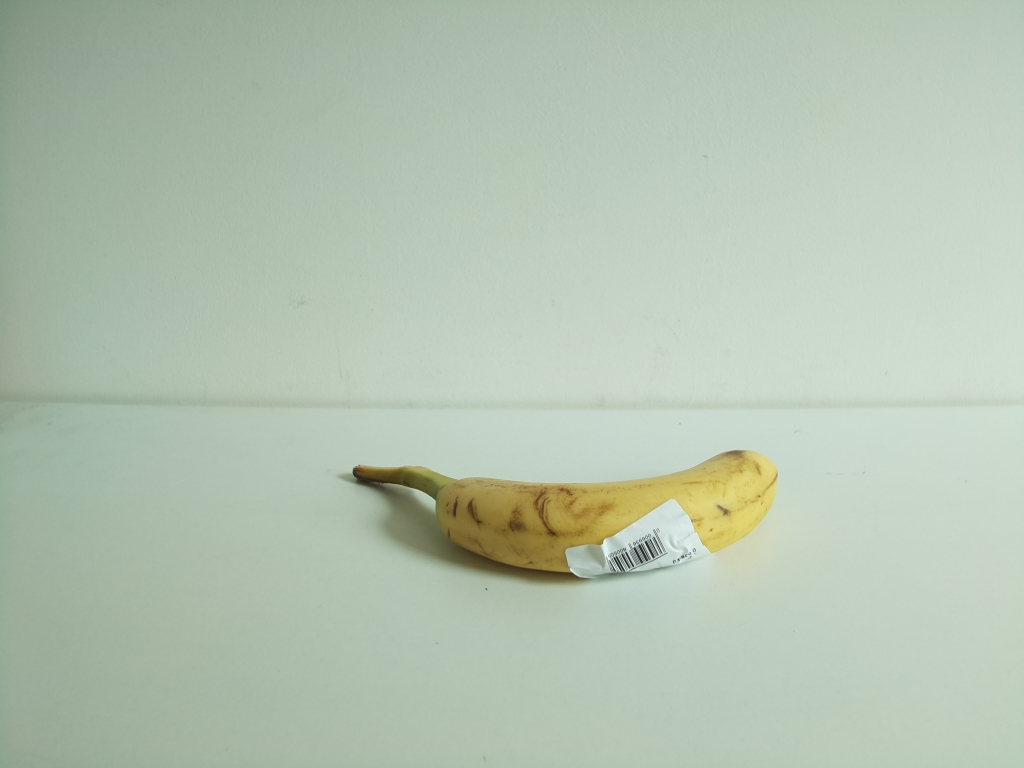banana: (354, 449, 777, 580)
